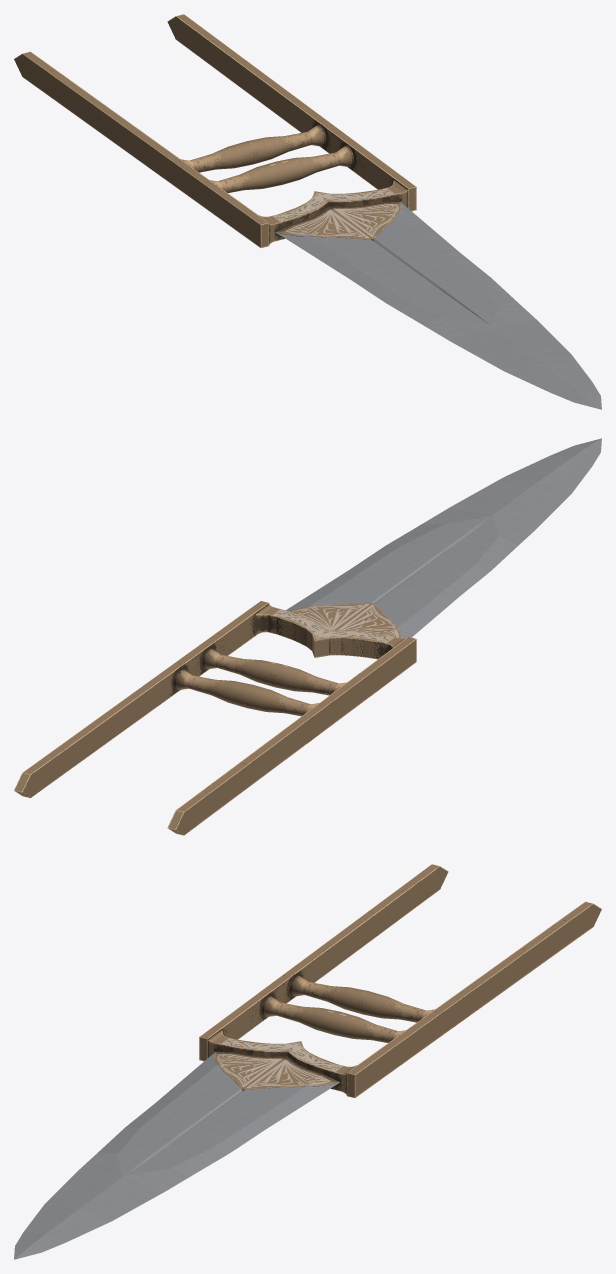
The model's file is Jamadhar.fbx.
3 renders of one model, top to bottom at view 1: azimuth 30°, elevation 25°; view 2: azimuth 150°, elevation 25°; view 3: azimuth 330°, elevation 25°, orthographic.
Visible parts, largest first — view 1: jamadahar; view 2: jamadahar; view 3: jamadahar.
Boxes of the visible parts, x1,y1,x2,y2 form: jamadahar: (14, 14, 601, 409); jamadahar: (14, 438, 601, 835); jamadahar: (14, 864, 601, 1259).
Size of the model in its own units: 7.85 by 1.1 by 42.56.
1 material, 1 textured.
